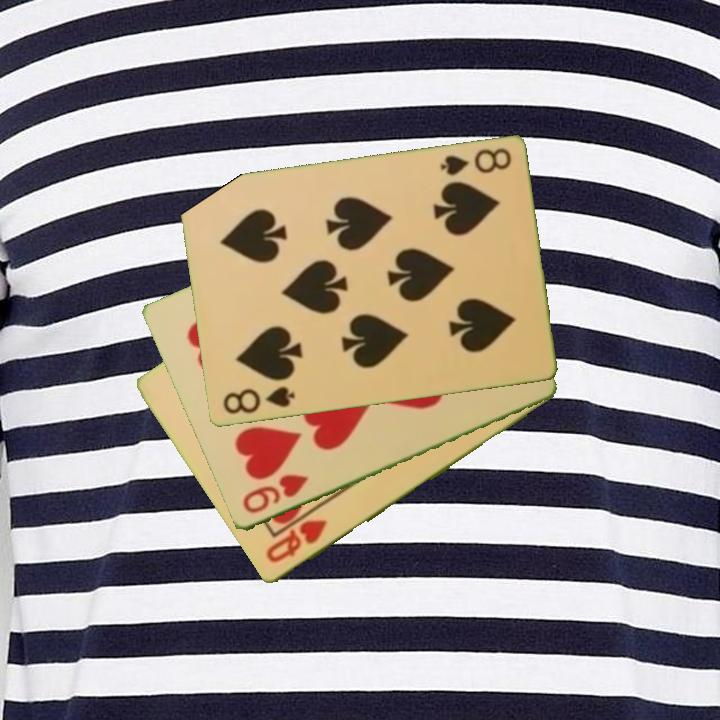8s: (219, 383, 298, 418), (436, 145, 514, 179)
9h: (238, 471, 312, 517)
Qh: (262, 516, 330, 567)
